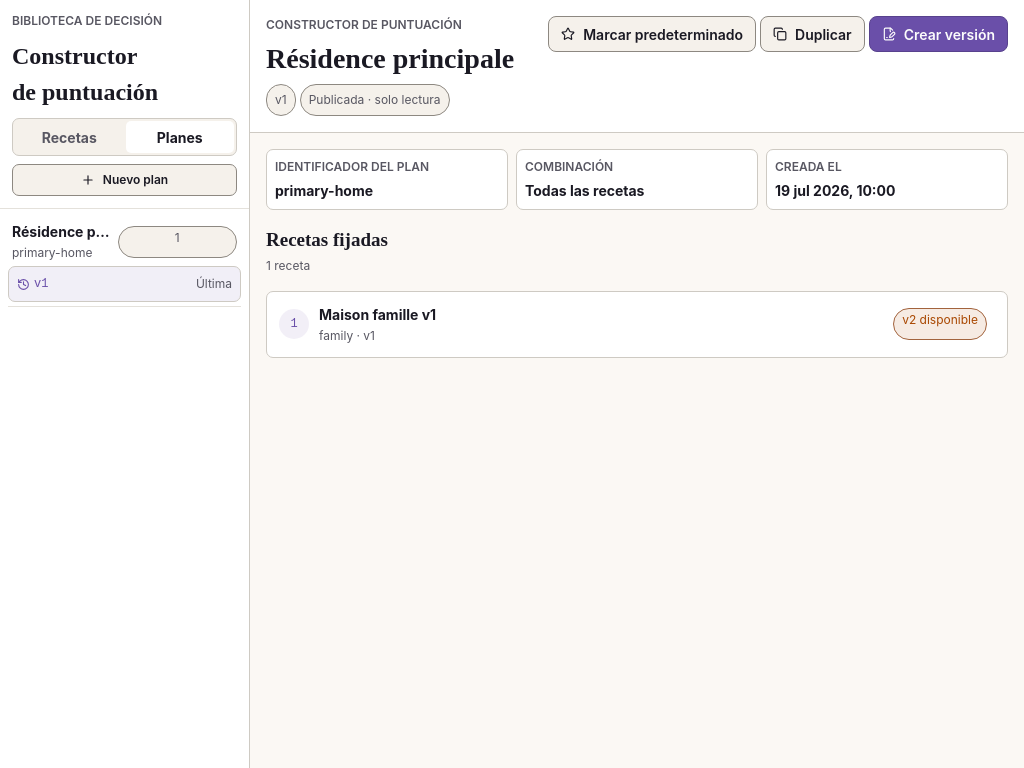
it: BuilderView › reports a failed default-plan change and allows a successful retry
Click the button "Marcar predeterminado" at (652, 34), box x1=548 y1=16 x2=756 y2=52
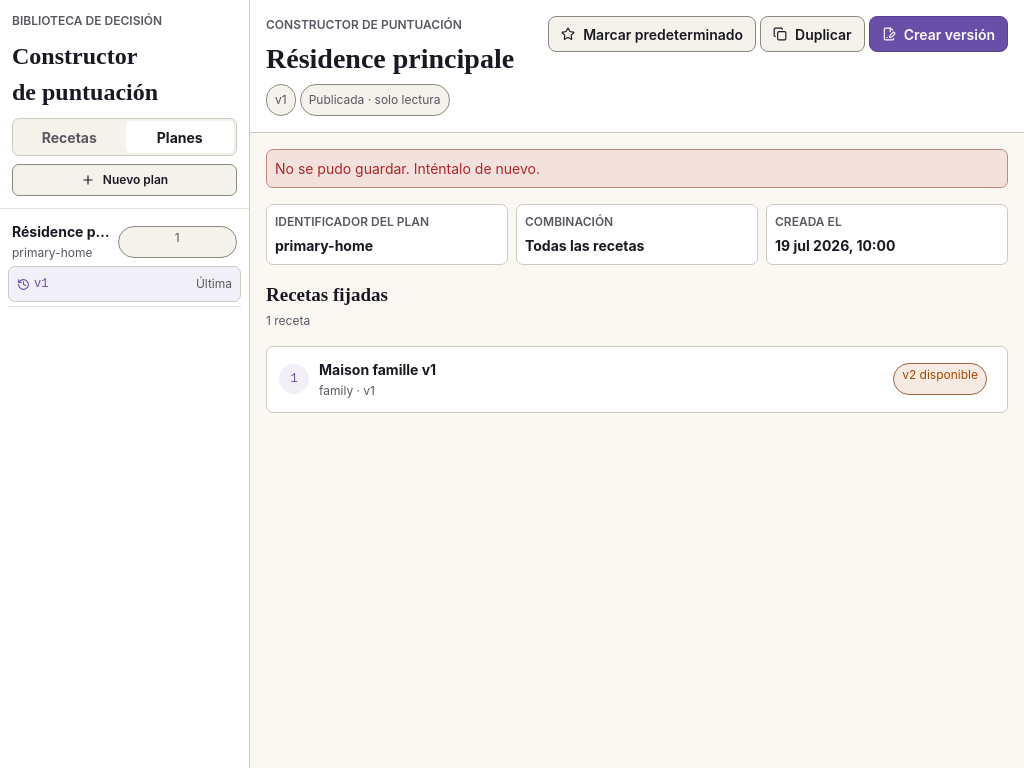
Expected: the message shows "No se pudo guardar", x1=275 y1=160 x2=540 y2=177
Click the button "Marcar predeterminado" at (652, 34), box x1=548 y1=16 x2=756 y2=52
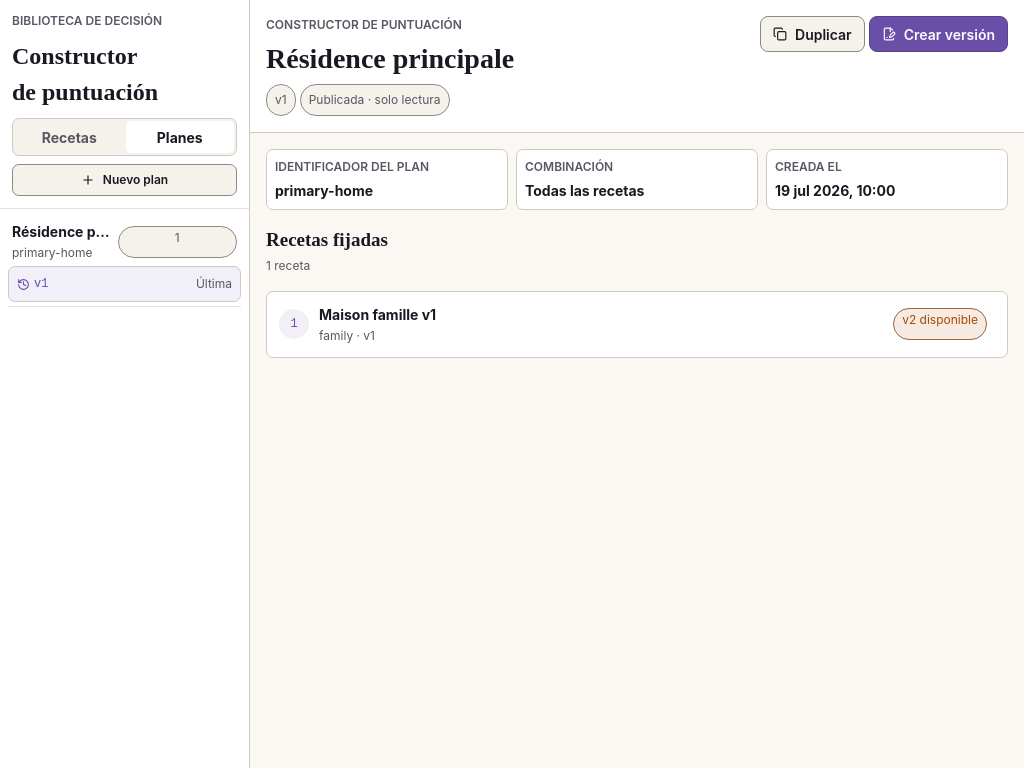
Expected: the button "Marcar predeterminado" is gone
Expected: the message "No se pudo guardar. Inténtalo de nuevo." is gone
